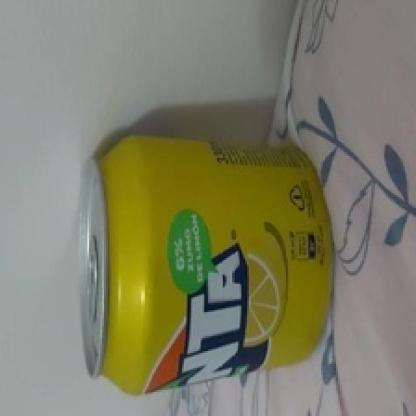Can: (74, 132, 341, 408)
